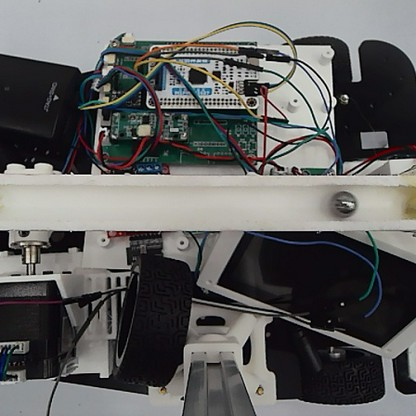ironball: (327, 186, 357, 220)
